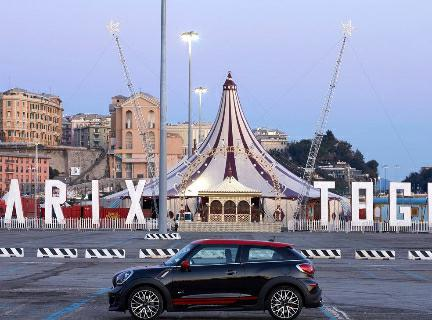MINI-JCWPACEMAN: (104, 241, 326, 319)
